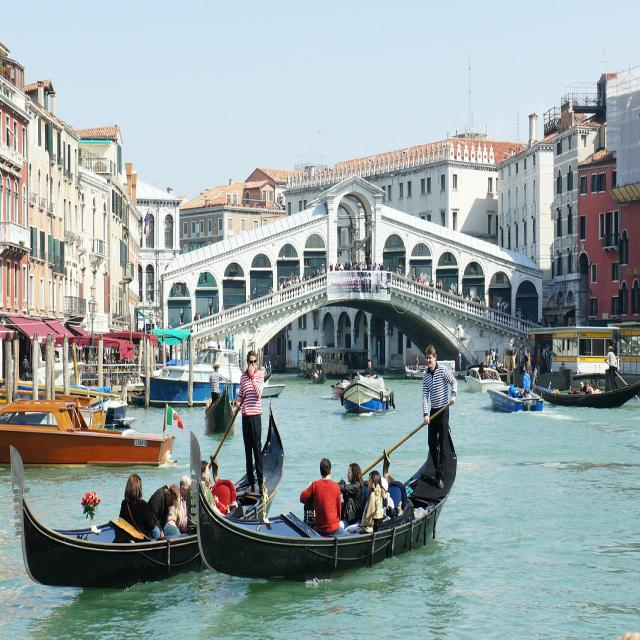boat: (182, 398, 466, 596), (6, 400, 295, 594), (528, 359, 640, 422), (328, 350, 406, 425)
